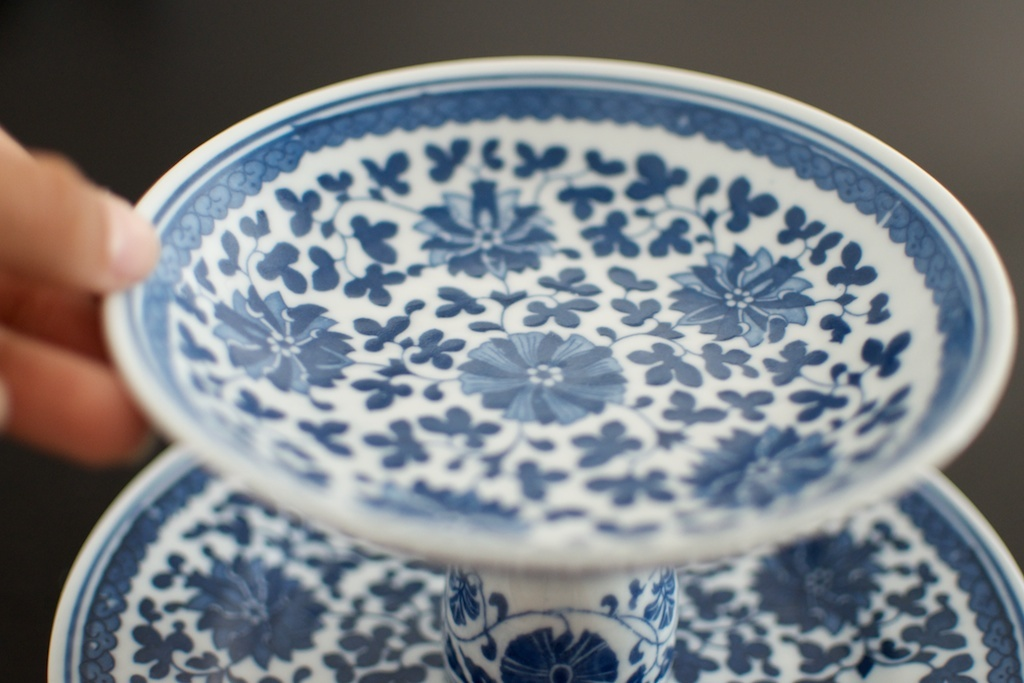plate: (110, 39, 965, 627)
